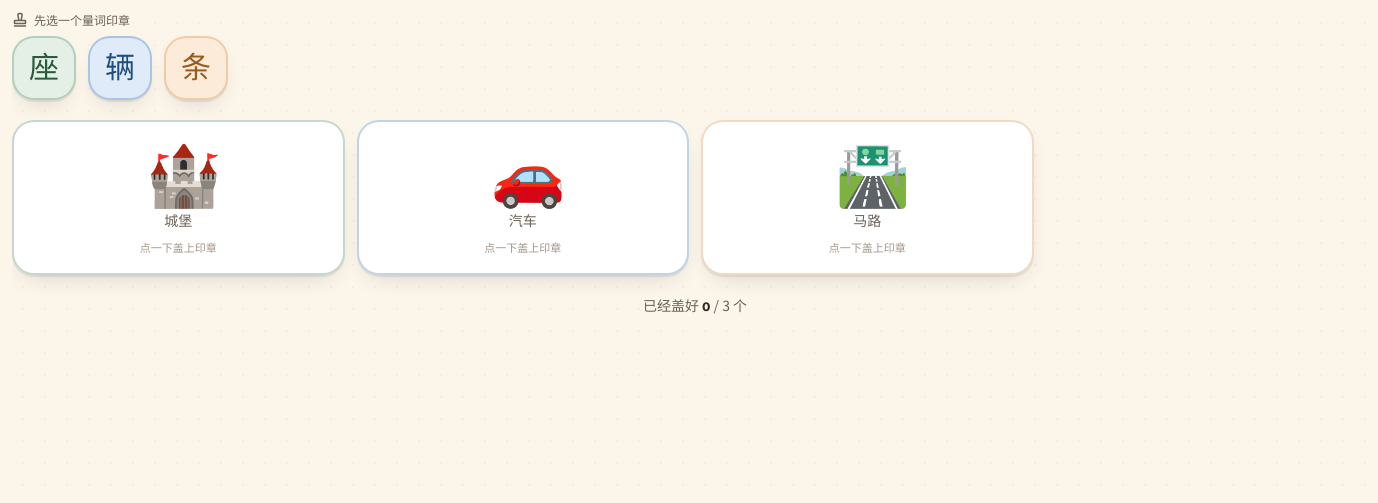
Test: 量词印章 › 全部盖对后上报完整映射，并亮出朗读条
Click the button "座" at x=44, y=68, box [12,36,76,100]
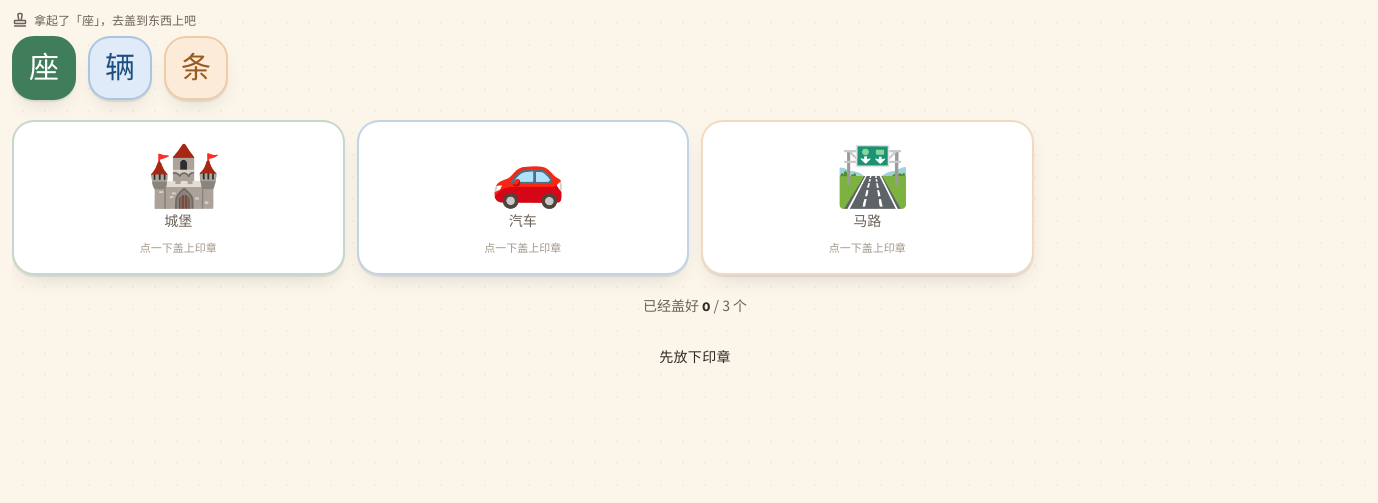
Click the button "🏰 城堡 点一下盖上印章" at x=178, y=197, box [12,120,344,275]
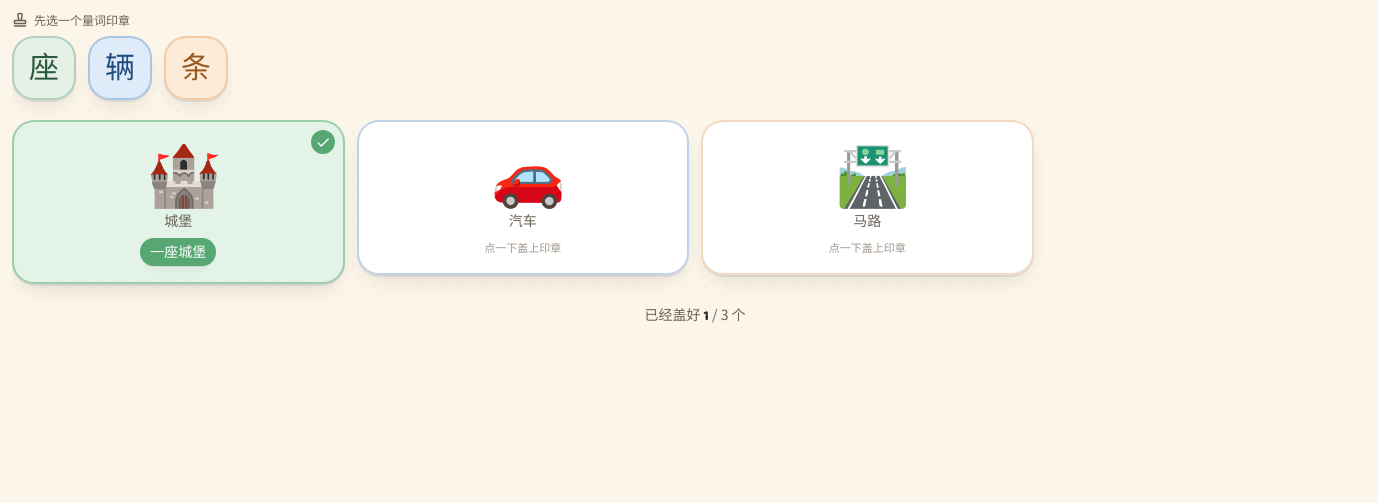
Click the button "辆" at x=120, y=68, box [88,36,152,100]
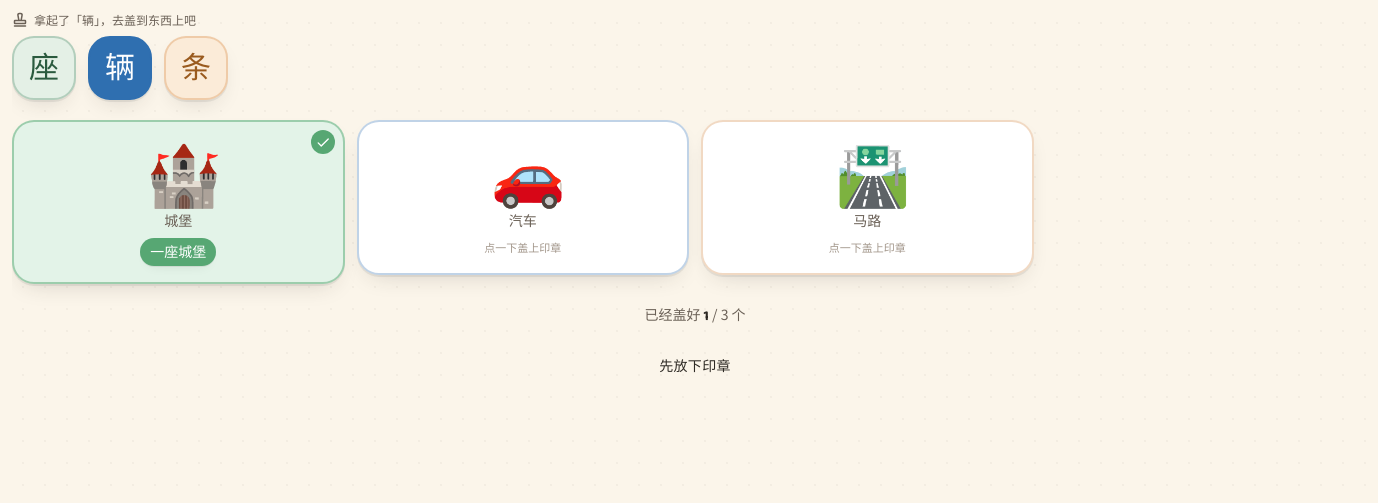
Click the button "🚗 汽车 点一下盖上印章" at x=523, y=197, box [356,120,689,275]
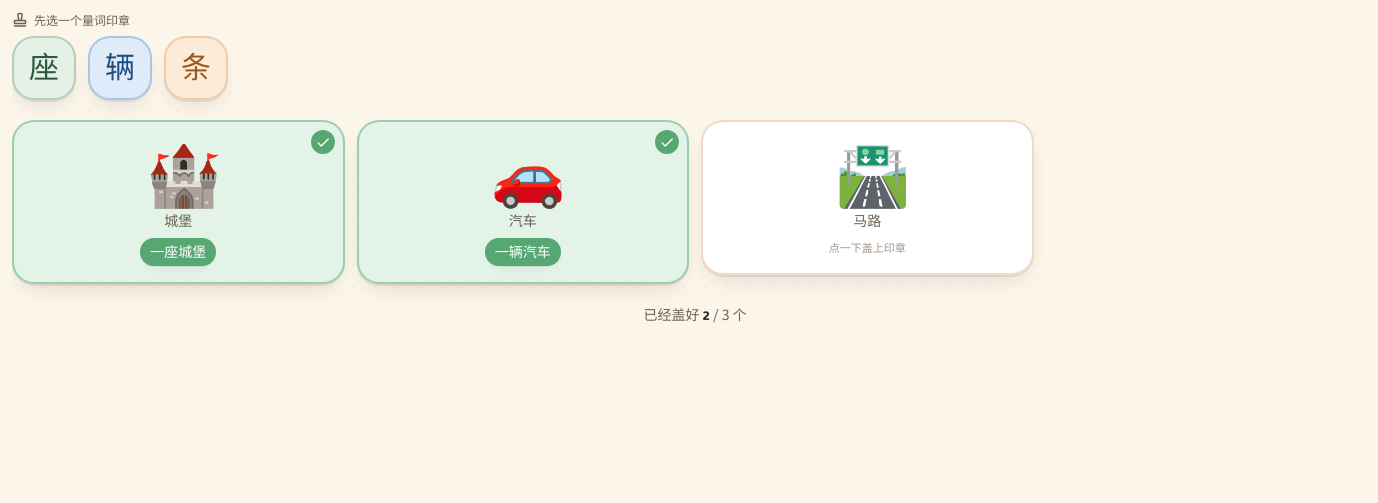
Click the button "条" at x=196, y=68, box [164,36,228,100]
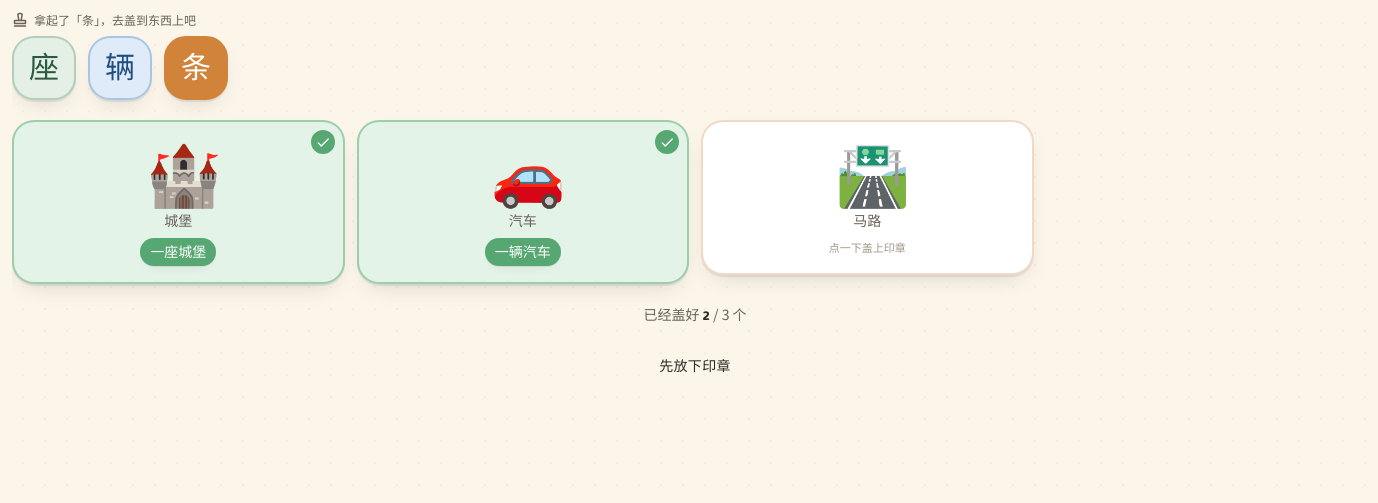
Click the button "🛣️ 马路 点一下盖上印章" at x=867, y=197, box [701,120,1034,275]
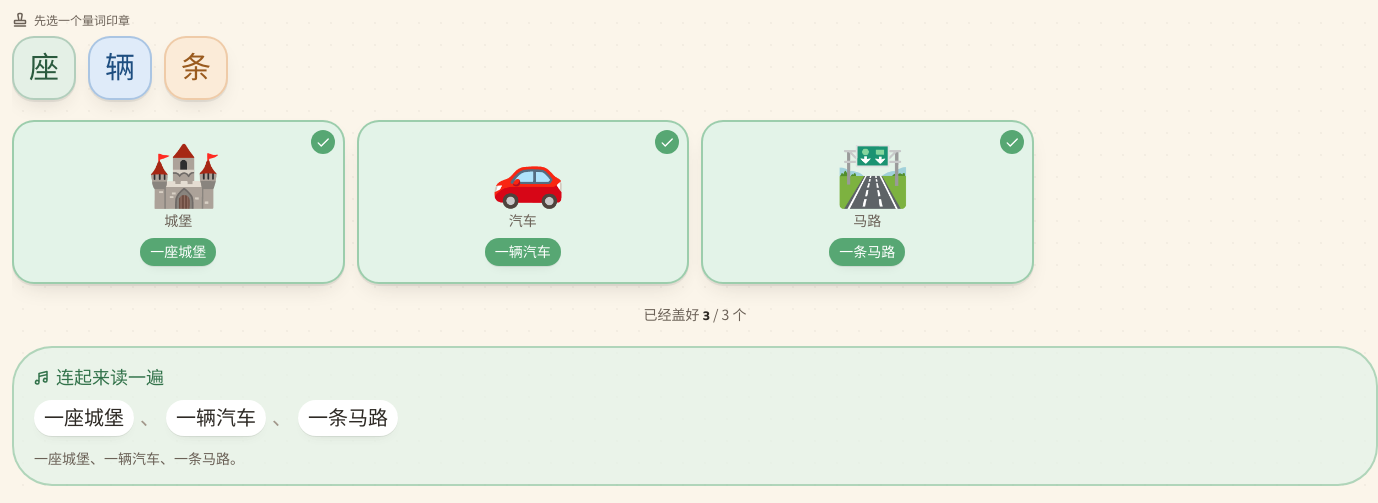
Now the text "一座城堡" is shown, box [140,238,216,266]
Now the text "连起来读一遍" is shown, box [56,364,164,392]
Now the text "一条马路" is shown, box [829,238,905,266]
